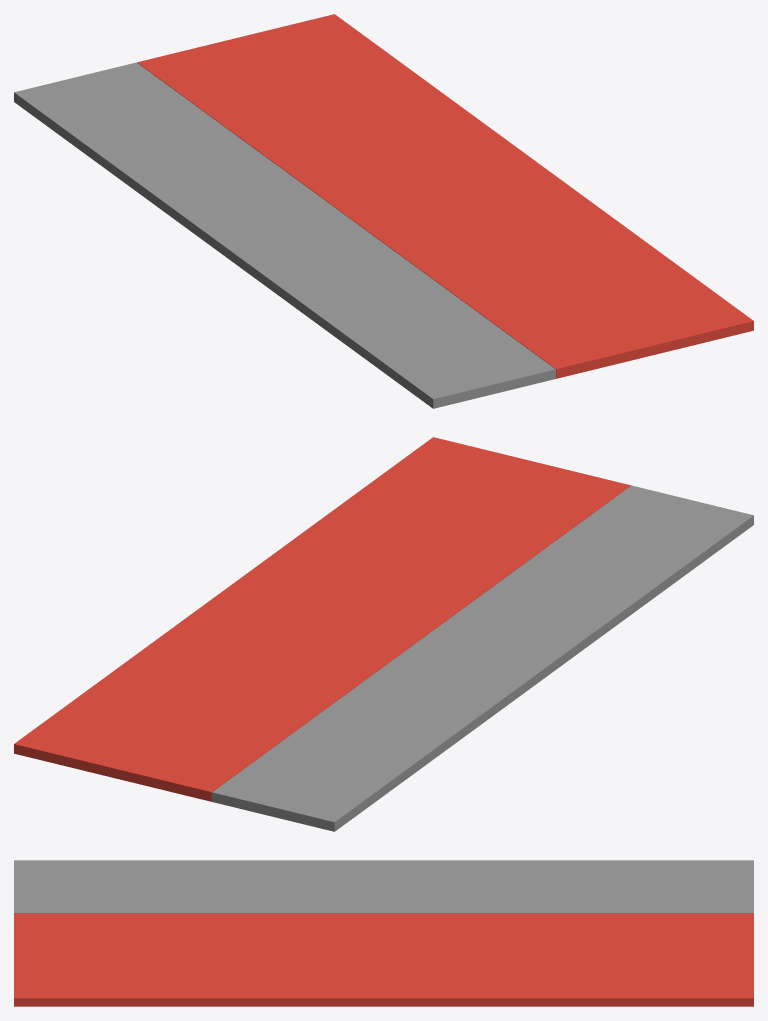
Rendered from BikeLane_SideWalk.fbx.
3 views of the same model, one above another, from view 1: azimuth 30°, elevation 25°; view 2: azimuth 150°, elevation 25°; view 3: azimuth 270°, elevation 25° (orthographic). The views are drawn at different scales.
Parts seen in each view (by area): view 1: Cube.010, Cube.008; view 2: Cube.010, Cube.008; view 3: Cube.010, Cube.008.
Part boxes in pixels (box(x1,y1,x2,y2)): Cube.010: box(137, 14, 753, 378); Cube.008: box(14, 62, 555, 408); Cube.010: box(14, 437, 630, 801); Cube.008: box(212, 485, 753, 831); Cube.010: box(14, 913, 753, 1006); Cube.008: box(14, 860, 753, 913).
Size of the model in its own units: 889 by 25.55 by 2013.
